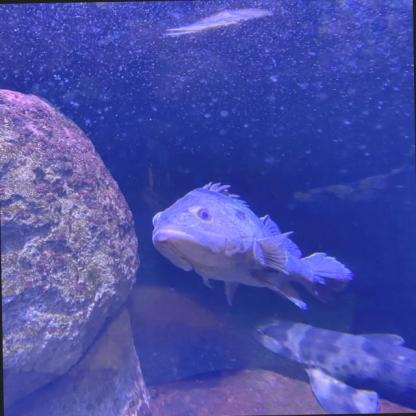fish: (152, 180, 354, 314), (248, 314, 415, 415)
